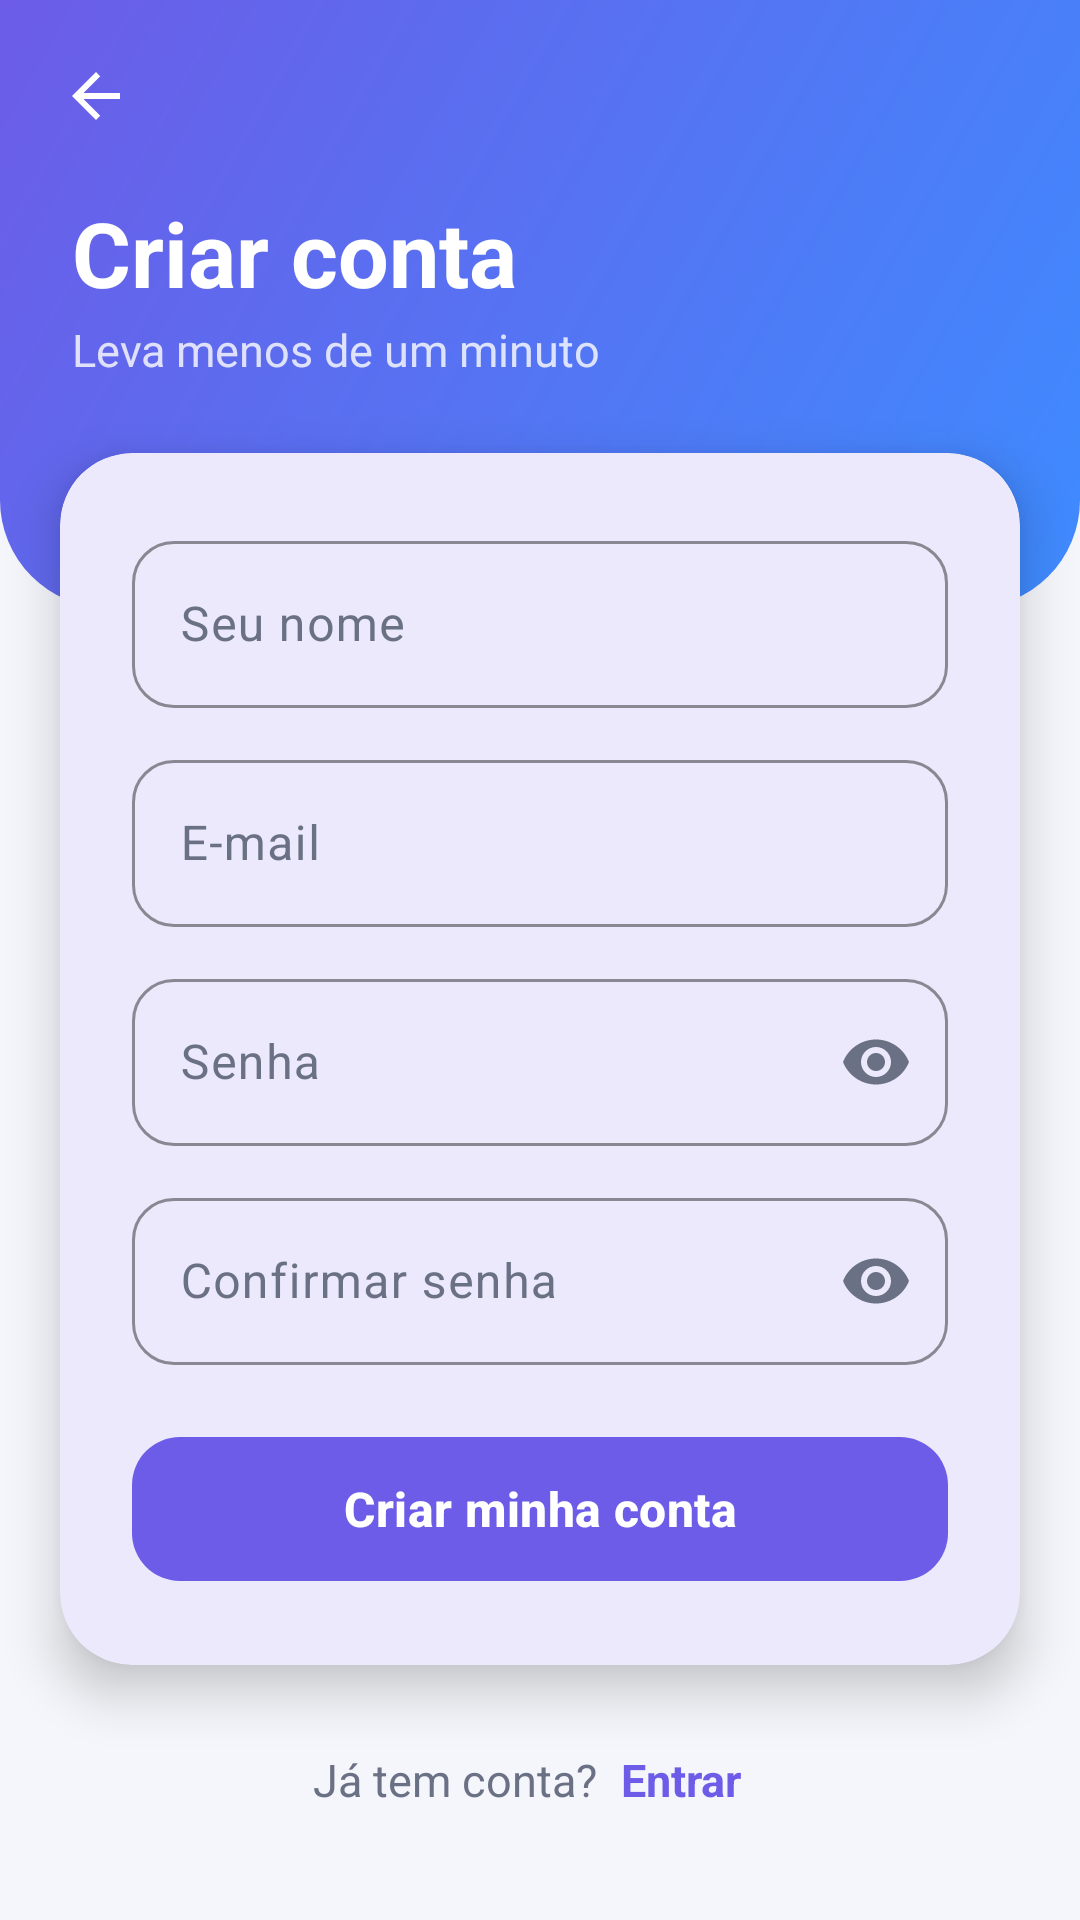

Screen size 1080×1920. Icon name, then its box in pixels as (x1,y1,x2,y2):
Voltar: (72,72,120,120)
